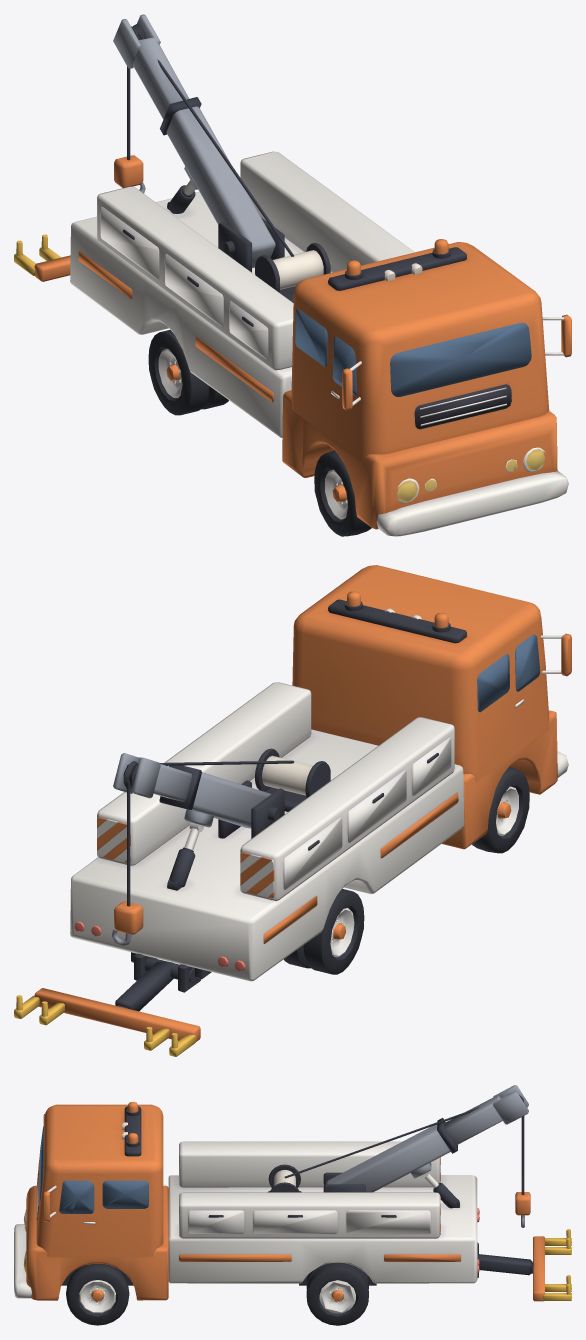
File: n_tow.glb
The picture shows the model from 3 angles, top to bottom: view 1: azimuth 30°, elevation 25°; view 2: azimuth 150°, elevation 25°; view 3: azimuth 270°, elevation 25°; orthographic projection. The views are drawn at different scales.
Visible parts, largest first — view 1: tow-truck_body, tow-truck_boom, tow-truck_windows, tow-truck_wheel_rr, tow-truck_wheel_fr, tow-truck_underlift, tow-truck_hook, tow-truck_headlights; view 2: tow-truck_body, tow-truck_boom, tow-truck_underlift, tow-truck_wheel_rr, tow-truck_wheel_fr, tow-truck_windows, tow-truck_hook; view 3: tow-truck_body, tow-truck_boom, tow-truck_wheel_rl, tow-truck_wheel_fl, tow-truck_windows, tow-truck_underlift, tow-truck_hook.
Part boxes in pixels (box(x1,y1,x2,y2)): tow-truck_body: box(70, 151, 571, 536); tow-truck_boom: box(113, 14, 293, 268); tow-truck_windows: box(295, 308, 531, 396); tow-truck_wheel_rr: box(148, 329, 228, 415); tow-truck_wheel_fr: box(314, 450, 371, 536); tow-truck_underlift: box(14, 234, 70, 281); tow-truck_hook: box(114, 66, 145, 193); tow-truck_headlights: box(396, 447, 545, 503); tow-truck_body: box(70, 565, 571, 992); tow-truck_boom: box(113, 753, 294, 850); tow-truck_underlift: box(14, 957, 200, 1056); tow-truck_wheel_rr: box(284, 889, 364, 974); tow-truck_wheel_fr: box(472, 767, 529, 853); tow-truck_windows: box(477, 634, 540, 712); tow-truck_hook: box(112, 780, 143, 945); tow-truck_body: box(14, 1104, 478, 1300); tow-truck_boom: box(284, 1085, 528, 1192); tow-truck_wheel_rl: box(306, 1262, 368, 1325); tow-truck_wheel_fl: box(66, 1264, 129, 1325); tow-truck_windows: box(39, 1126, 148, 1213); tow-truck_underlift: box(477, 1229, 571, 1301); tow-truck_hook: box(515, 1116, 530, 1227).
Size of the model in its own units: 2.68 by 3.23 by 7.9.
Materials: 5 (4 with a texture image).
